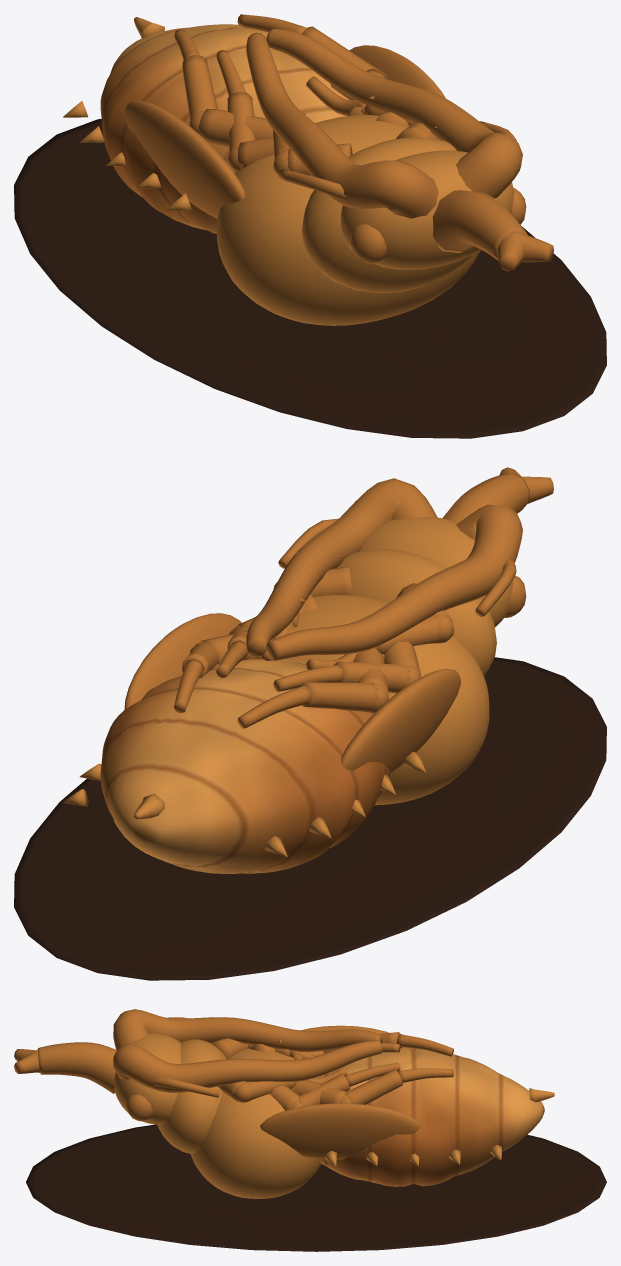
The model's file is bug_pupa.glb.
3 renders of one model, top to bottom at view 1: azimuth 30°, elevation 25°; view 2: azimuth 150°, elevation 25°; view 3: azimuth 270°, elevation 25°, orthographic. The views are drawn at different scales.
Visible parts, largest first — view 1: room, pupa_body, pupa_fold, pupa_jaws_mesh, abdomen, pupa_horn_mesh; view 2: room, abdomen, pupa_fold, pupa_body, pupa_jaws_mesh, pupa_horn_mesh; view 3: room, abdomen, pupa_body, pupa_fold, pupa_jaws_mesh, pupa_horn_mesh.
Part boxes in pixels (left/top/right/bottom): room: left=14, top=118, right=606, bottom=438; pupa_body: left=63, top=17, right=514, bottom=325; pupa_fold: left=124, top=14, right=526, bottom=263; pupa_jaws_mesh: left=246, top=28, right=522, bottom=218; abdomen: left=100, top=24, right=348, bottom=233; pupa_horn_mesh: left=432, top=190, right=553, bottom=271; room: left=14, top=657, right=606, bottom=980; abdomen: left=100, top=659, right=391, bottom=873; pupa_fold: left=124, top=518, right=526, bottom=772; pupa_body: left=63, top=516, right=513, bottom=857; pupa_jaws_mesh: left=246, top=478, right=522, bottom=660; pupa_horn_mesh: left=442, top=467, right=553, bottom=522; room: left=26, top=1124, right=606, bottom=1251; abdomen: left=313, top=1047, right=544, bottom=1186; pupa_body: left=114, top=1033, right=554, bottom=1198; pupa_fold: left=126, top=1017, right=453, bottom=1159; pupa_jaws_mesh: left=113, top=1009, right=382, bottom=1092; pupa_horn_mesh: left=14, top=1042, right=116, bottom=1093.
Size of the model in its own units: 0.6778 by 0.3544 by 1.22.
Materials: 4 (1 with a texture image).
